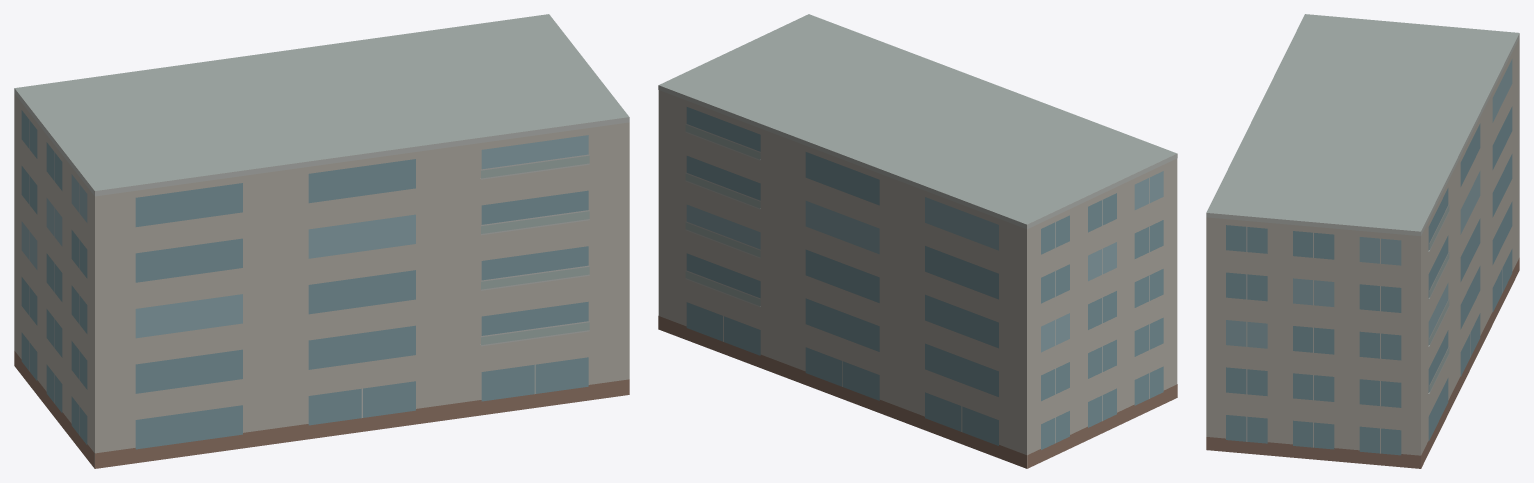
File: survey-upis-32853877.glb
The picture shows the model from 3 angles, left to right: view 1: azimuth 30°, elevation 25°; view 2: azimuth 150°, elevation 25°; view 3: azimuth 270°, elevation 25°; orthographic projection. The views are drawn at different scales.
Visible parts, largest first — view 1: survey-upis-32853877.tmp; view 2: survey-upis-32853877.tmp; view 3: survey-upis-32853877.tmp.
Boxes of the visible parts, box(x1,y1,x2,y2) form: survey-upis-32853877.tmp: box(14, 14, 629, 468); survey-upis-32853877.tmp: box(658, 14, 1177, 468); survey-upis-32853877.tmp: box(1206, 14, 1519, 468).
Size of the model in its own units: 25 by 12.7 by 15.21.
